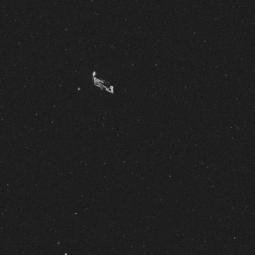lisa_pathfinder: (61, 63, 128, 105)
